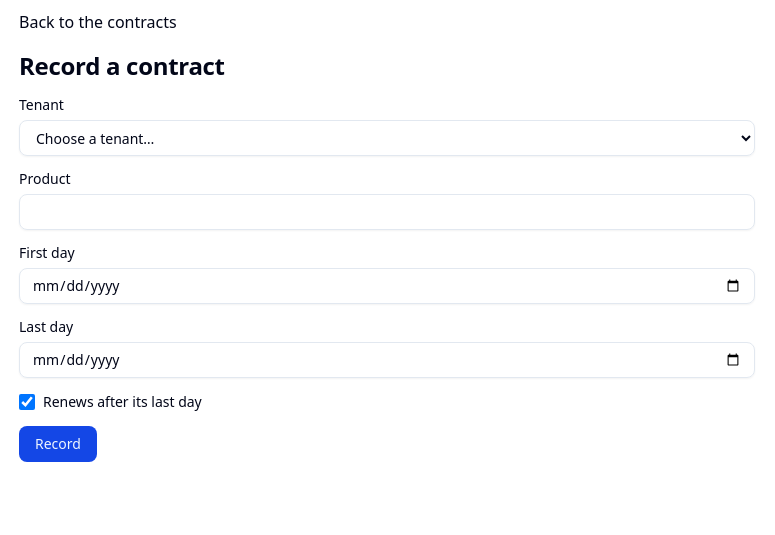
Scenario: a contract without a tenant or a product is refused next to the fields, and nothing is sent
Type "2026-01-01" into the date field labelled "First day" at (387, 286), box left=19, top=268, right=755, bottom=304
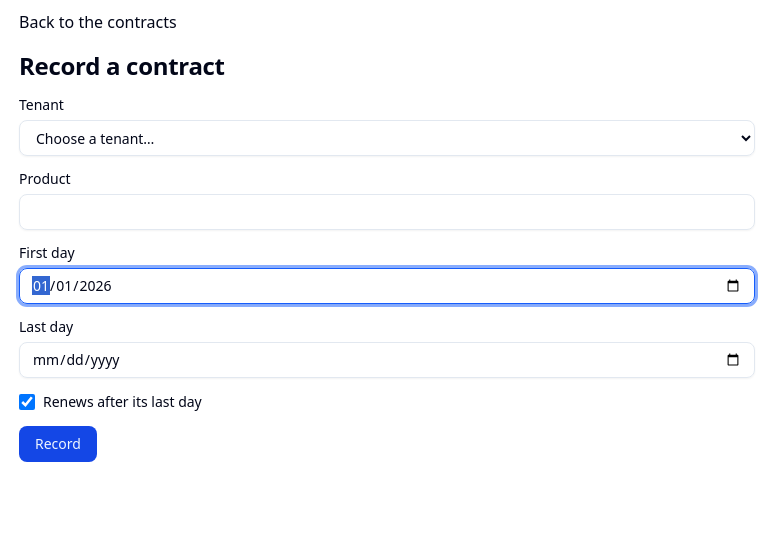
Type "2026-12-31" into the date field labelled "Last day" at (387, 360), box left=19, top=342, right=755, bottom=378
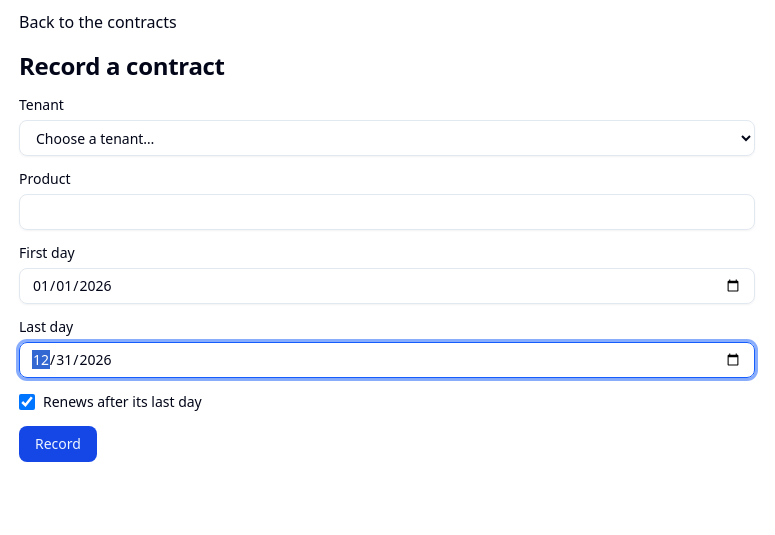
Click the button "Record" at (58, 444), box left=19, top=426, right=97, bottom=462
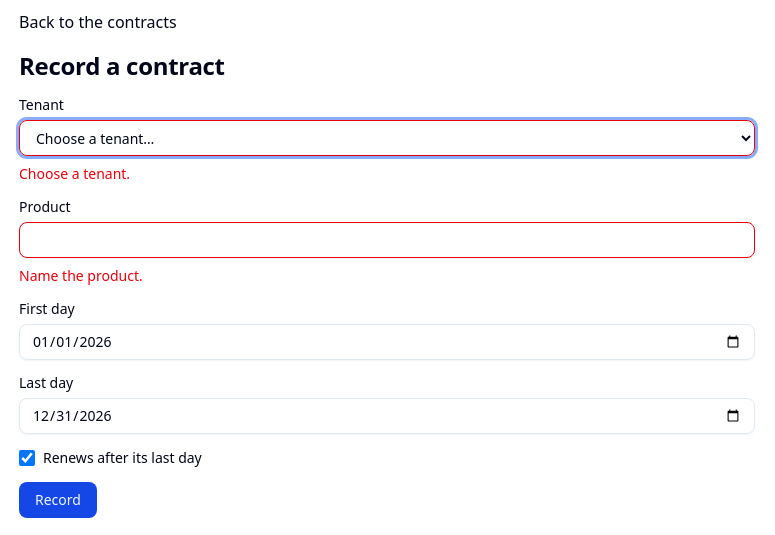
Result: the text "Choose a tenant." is shown at left=19, top=164, right=130, bottom=183
Result: the text "Name the product." is shown at left=19, top=266, right=143, bottom=285
